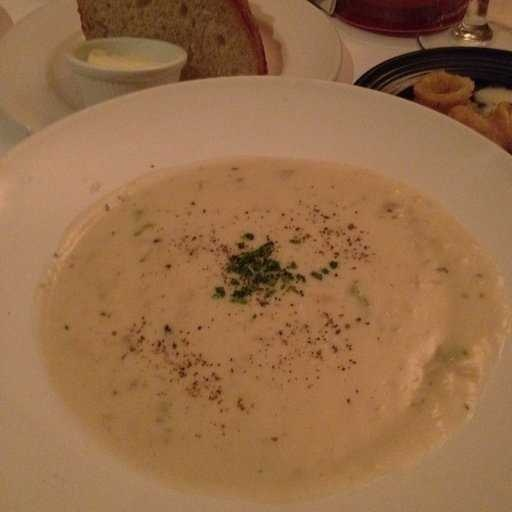soup: (1, 146, 502, 482)
